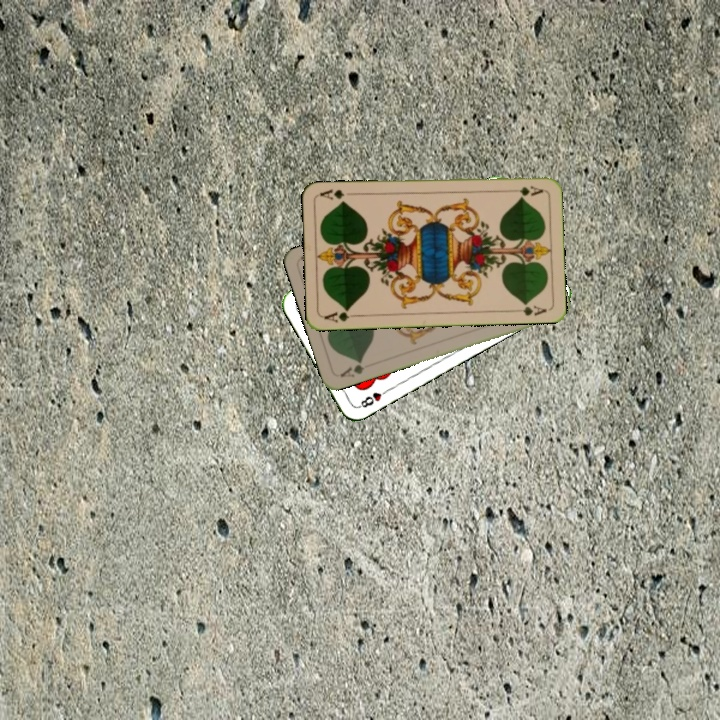GA: (321, 305, 361, 325), (336, 357, 367, 380), (505, 182, 546, 198)
H8: (354, 385, 392, 411)
